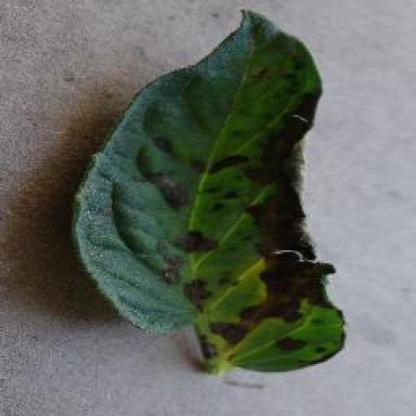Tomato_Blight: (72, 7, 349, 368)
